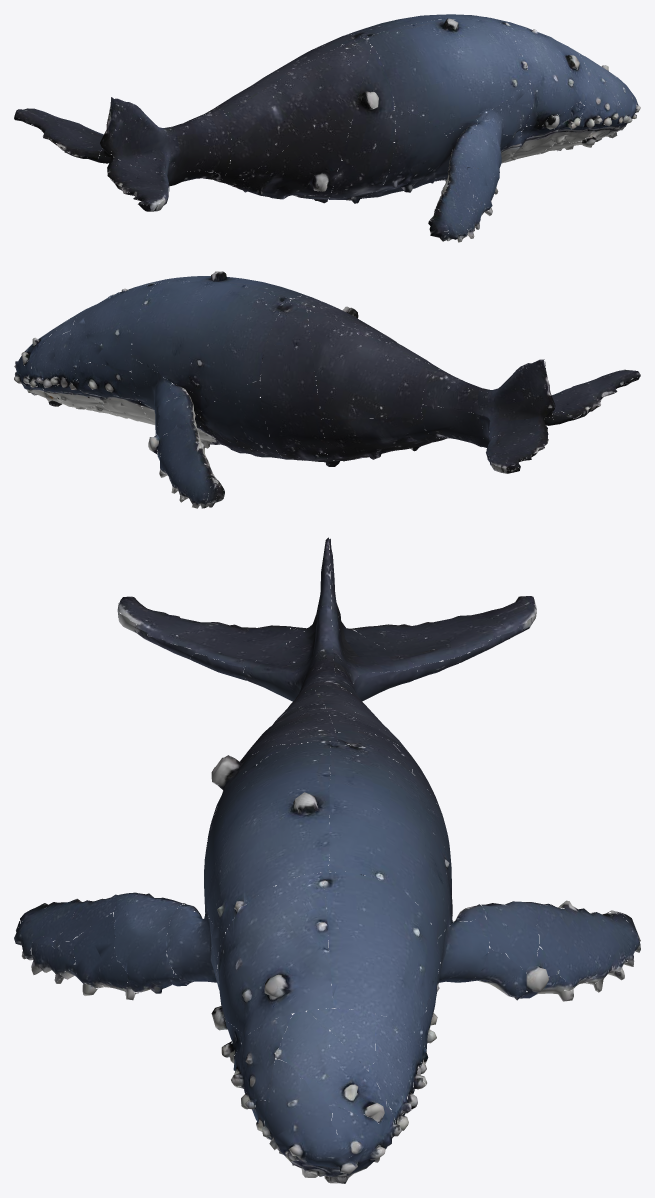
The model's file is humpback.glb.
The picture shows the model from 3 angles, top to bottom: view 1: azimuth 30°, elevation 25°; view 2: azimuth 150°, elevation 25°; view 3: azimuth 270°, elevation 25°; orthographic projection. The views are drawn at different scales.
Visible parts, largest first — view 1: tripo_node_49884e3f-f199-417f-9557-f0254121b2a2; view 2: tripo_node_49884e3f-f199-417f-9557-f0254121b2a2; view 3: tripo_node_49884e3f-f199-417f-9557-f0254121b2a2.
Part boxes in pixels (box(x1,y1,x2,y2)): tripo_node_49884e3f-f199-417f-9557-f0254121b2a2: box(14, 14, 640, 242); tripo_node_49884e3f-f199-417f-9557-f0254121b2a2: box(14, 271, 640, 508); tripo_node_49884e3f-f199-417f-9557-f0254121b2a2: box(14, 537, 640, 1183).
Size of the model in its own units: 1 by 0.2822 by 0.6038.
Materials: 1 (1 with a texture image).
